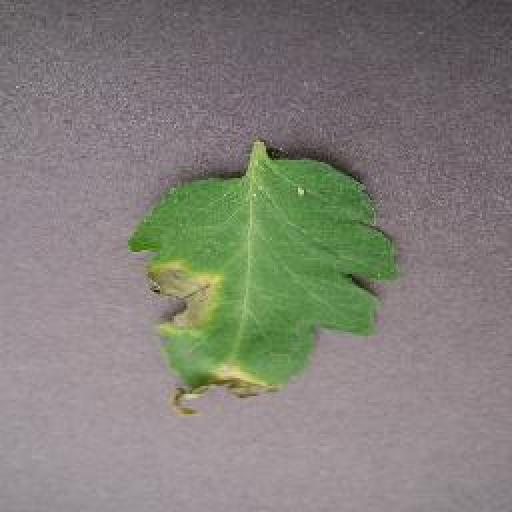disease_tomato: (133, 157, 400, 415)
